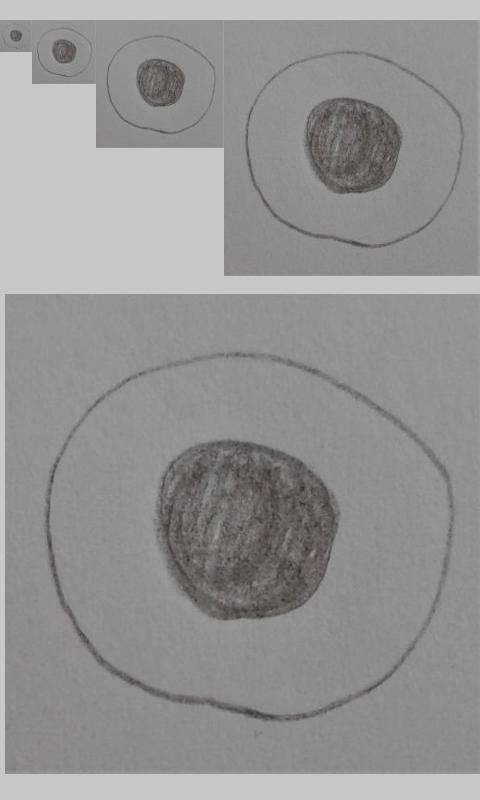radio_button: (40, 346, 458, 725), (243, 48, 467, 250), (105, 33, 218, 135), (35, 26, 93, 78), (1, 22, 31, 49)
